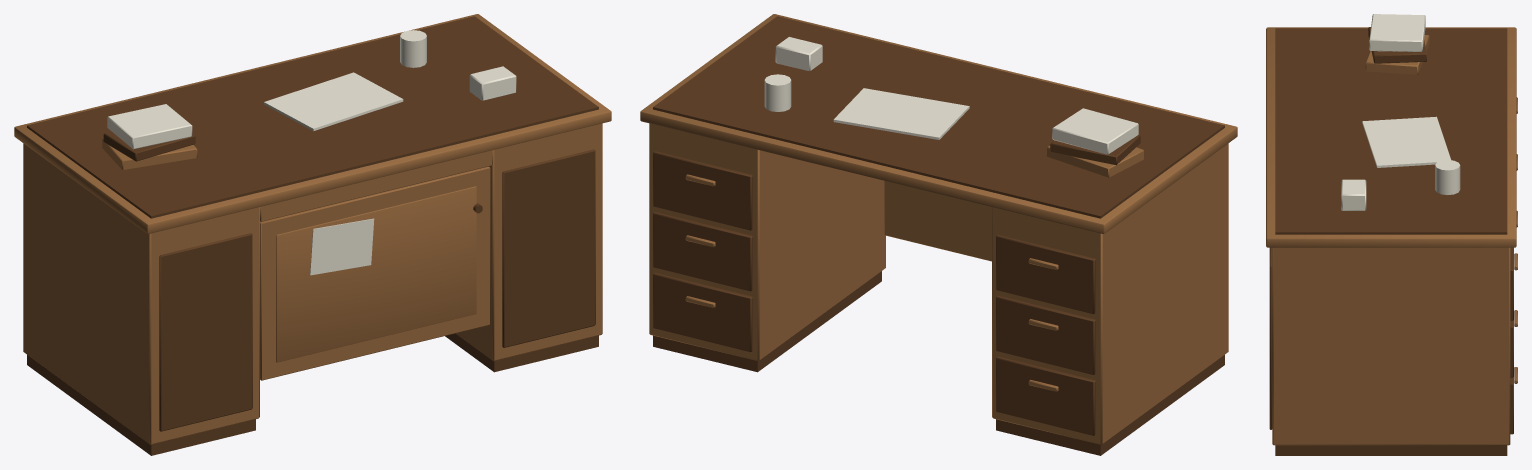
File: desk_hide.glb
3 views of the same model, side by side, from view 1: azimuth 30°, elevation 25°; view 2: azimuth 150°, elevation 25°; view 3: azimuth 270°, elevation 25° (orthographic). The views are drawn at different scales.
Parts seen in each view (by area): view 1: DeskBody, Door; view 2: DeskBody, Door; view 3: DeskBody.
Part boxes in pixels (x1,y1,x2,y2): DeskBody: (14, 14, 611, 455); Door: (260, 166, 490, 380); DeskBody: (640, 14, 1237, 455); Door: (884, 180, 991, 261); DeskBody: (1266, 14, 1517, 455).
Size of the model in its own units: 1.6 by 0.894 by 0.804.
